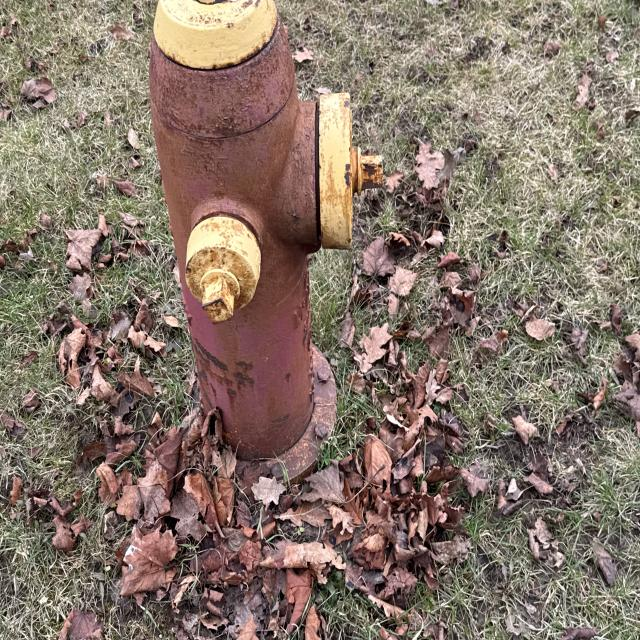Fire hydrant: (144, 1, 386, 507)
